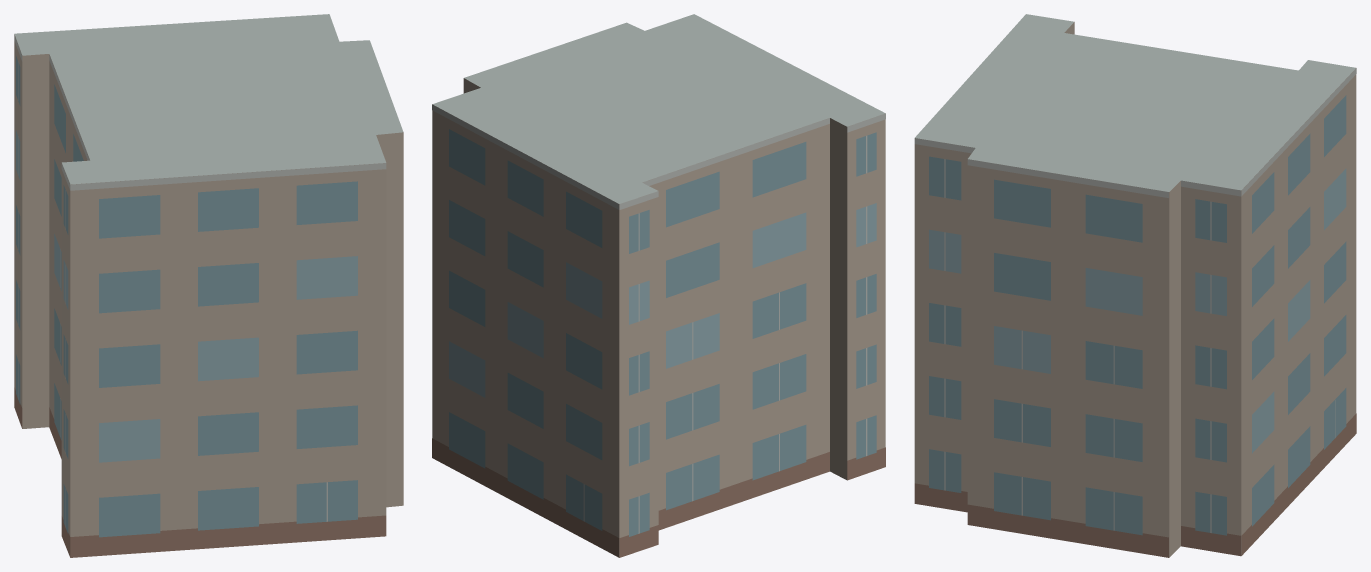
Rendered from survey-upis-32937827.glb.
3 renders of one model, left to right at view 1: azimuth 30°, elevation 25°; view 2: azimuth 150°, elevation 25°; view 3: azimuth 270°, elevation 25°, orthographic. The views are drawn at different scales.
Visible parts, largest first — view 1: survey-upis-32937827.tmp; view 2: survey-upis-32937827.tmp; view 3: survey-upis-32937827.tmp.
Boxes of the visible parts, x1,y1,x2,y2 form: survey-upis-32937827.tmp: (14,14,403,557); survey-upis-32937827.tmp: (432,14,885,557); survey-upis-32937827.tmp: (914,14,1356,557).
Bounding box in the file's own units: 15.15 × 14.5 × 15.88.
